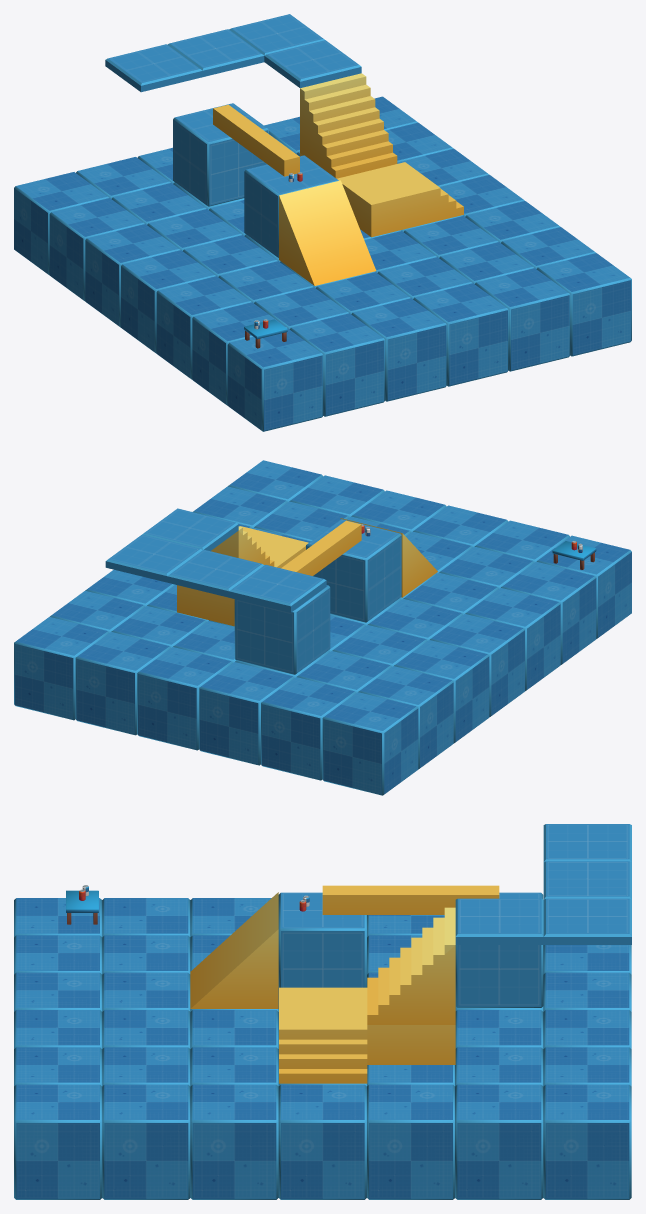
File: level.glb
3 renders of one model, top to bottom at view 1: azimuth 30°, elevation 25°; view 2: azimuth 150°, elevation 25°; view 3: azimuth 270°, elevation 25°, orthographic. The views are drawn at different scales.
Visible parts, largest first — view 1: Floor-convcol, Floor_Prototype-col, Primitive_Stairs, Primitive_Slope-convcol, Cube_Prototype_Large_A.001-convcol, Primitive_Cube_Small-convcol, Cube_Prototype_Large_A-convcol, Primitive_Beam-convcol, Primitive_Stairs_Half, table_medium-col; view 2: Floor-convcol, Floor_Prototype-col, Cube_Prototype_Large_A.001-convcol, Cube_Prototype_Large_A-convcol, Primitive_Cube_Small-convcol, Primitive_Beam-convcol, Primitive_Slope-convcol, Primitive_Stairs, table_medium-col; view 3: Floor-convcol, Floor_Prototype-col, Cube_Prototype_Large_A-convcol, Primitive_Stairs, Primitive_Cube_Small-convcol, Primitive_Slope-convcol, Cube_Prototype_Large_A.001-convcol, Primitive_Stairs_Half, Primitive_Beam-convcol, table_medium-col.
Part boxes in pixels (x1,y1,x2,y2): Floor-convcol: (14, 96, 631, 431); Floor_Prototype-col: (105, 14, 361, 92); Primitive_Stairs: (300, 73, 397, 178); Primitive_Slope-convcol: (279, 180, 376, 285); Cube_Prototype_Large_A.001-convcol: (173, 103, 268, 206); Primitive_Cube_Small-convcol: (300, 153, 432, 237); Cube_Prototype_Large_A-convcol: (244, 155, 338, 257); Primitive_Beam-convcol: (213, 104, 299, 176); Primitive_Stairs_Half: (398, 162, 463, 222); table_medium-col: (244, 319, 287, 348); Floor-convcol: (14, 460, 631, 795); Floor_Prototype-col: (105, 508, 326, 612); Cube_Prototype_Large_A.001-convcol: (234, 585, 330, 674); Cube_Prototype_Large_A-convcol: (306, 519, 401, 622); Primitive_Cube_Small-convcol: (177, 528, 308, 626); Primitive_Beam-convcol: (281, 520, 361, 575); Primitive_Slope-convcol: (340, 518, 437, 597); Primitive_Stairs: (211, 526, 274, 566); table_medium-col: (552, 541, 596, 569); Floor-convcol: (14, 898, 631, 1199); Floor_Prototype-col: (455, 824, 631, 944); Cube_Prototype_Large_A-convcol: (278, 892, 366, 1005); Primitive_Stairs: (367, 907, 455, 1024); Primitive_Cube_Small-convcol: (279, 987, 455, 1064); Primitive_Slope-convcol: (190, 892, 278, 1008); Cube_Prototype_Large_A.001-convcol: (455, 892, 543, 1007); Primitive_Stairs_Half: (279, 1025, 367, 1083); Primitive_Beam-convcol: (322, 885, 499, 914); table_medium-col: (66, 890, 98, 924).
Size of what is drawn, in the model's own units: 24 by 10.5 by 28.02.
Materials: 5 (5 with a texture image).
